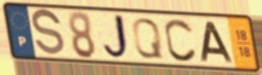8: (67, 9, 98, 60)
A: (199, 20, 236, 65)
C: (163, 17, 199, 64)
J: (101, 12, 134, 62)
Q: (130, 17, 166, 61)
S: (30, 7, 67, 59)
